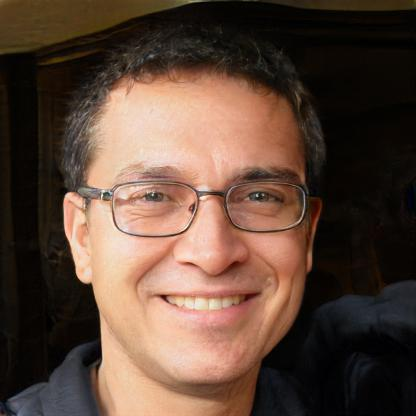glasses: (101, 174, 309, 238)
